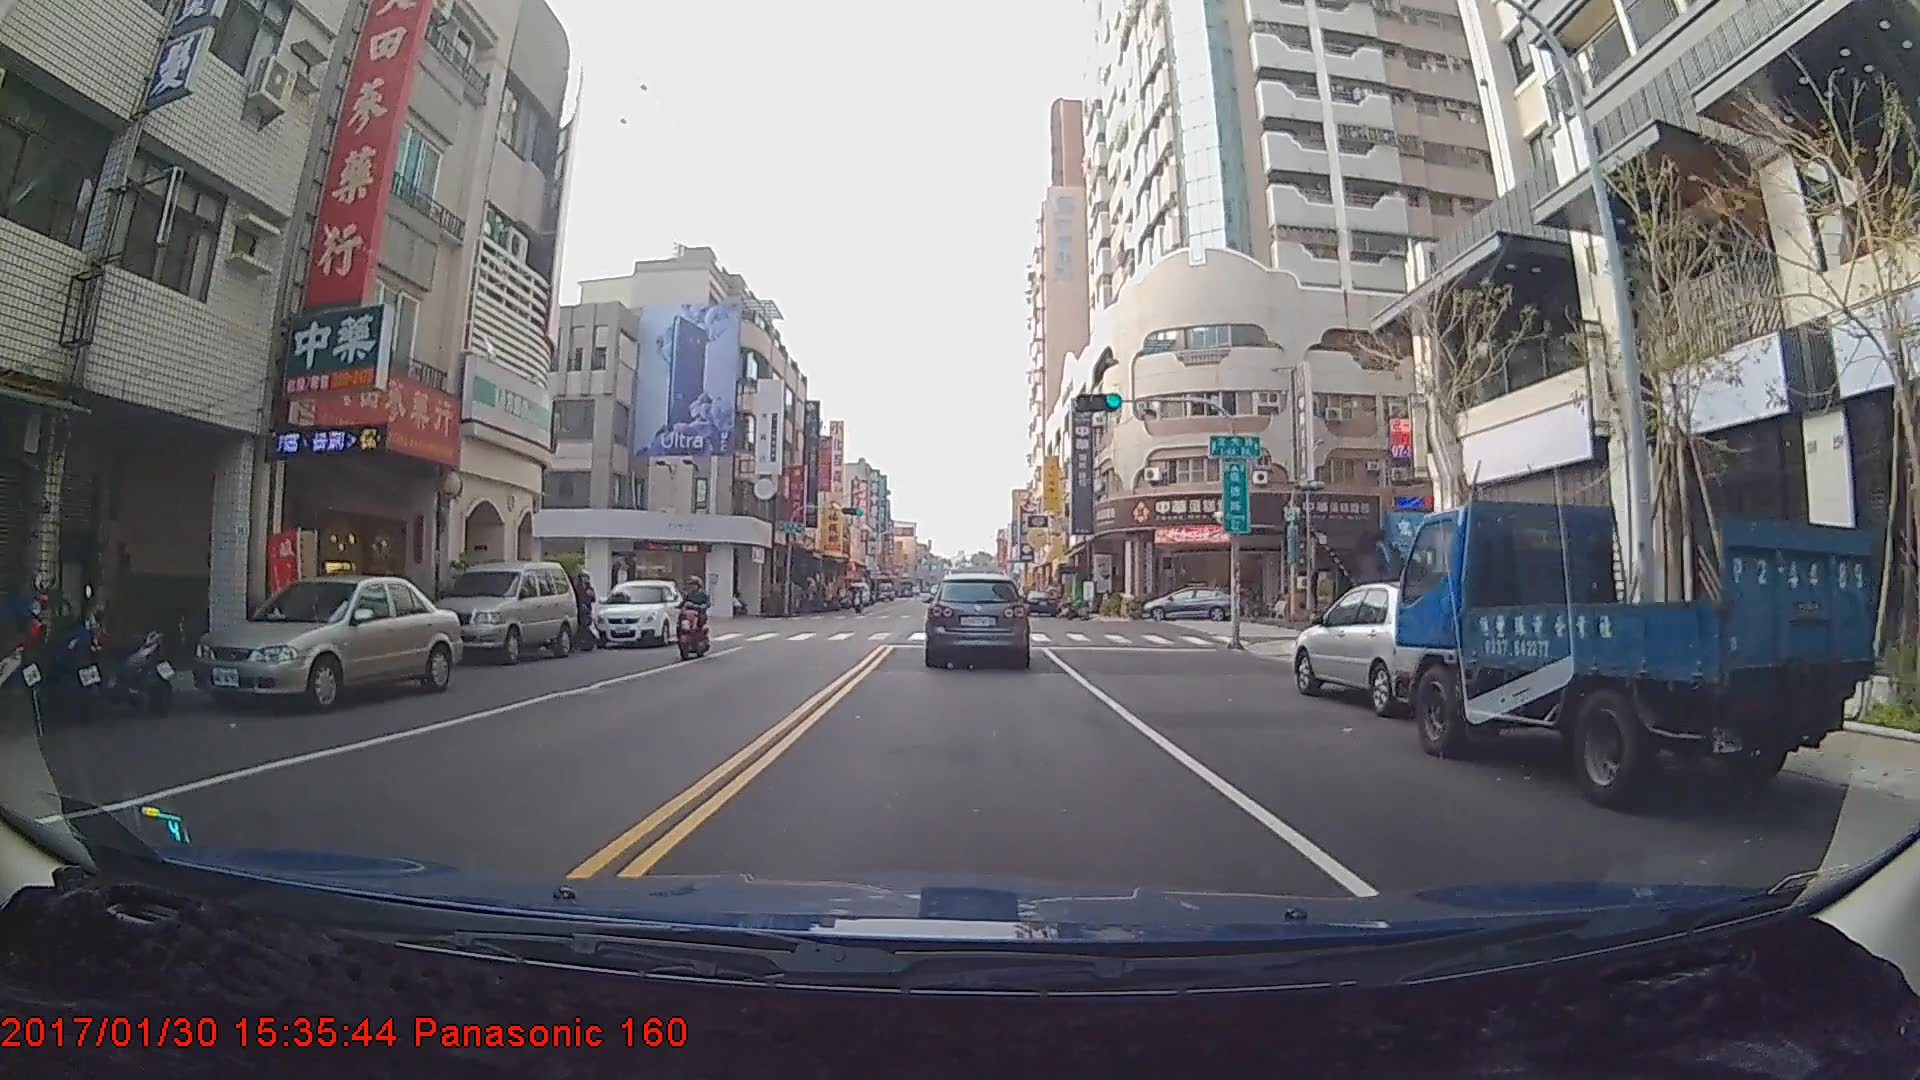rider: (671, 578, 713, 666)
vehicle: (1397, 498, 1865, 804), (190, 574, 457, 716), (1290, 580, 1488, 716), (424, 559, 579, 665), (926, 572, 1029, 667), (593, 578, 687, 649), (1140, 584, 1239, 621), (1022, 588, 1059, 617), (846, 580, 870, 608)
